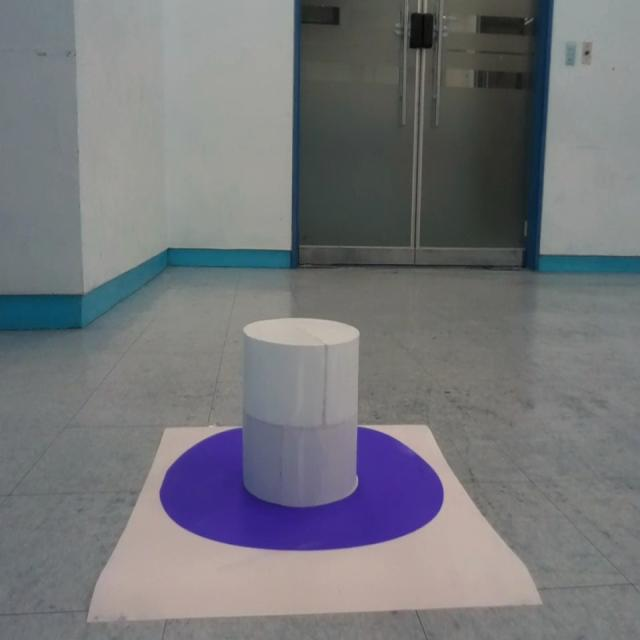cylinder: (242, 317, 362, 507)
